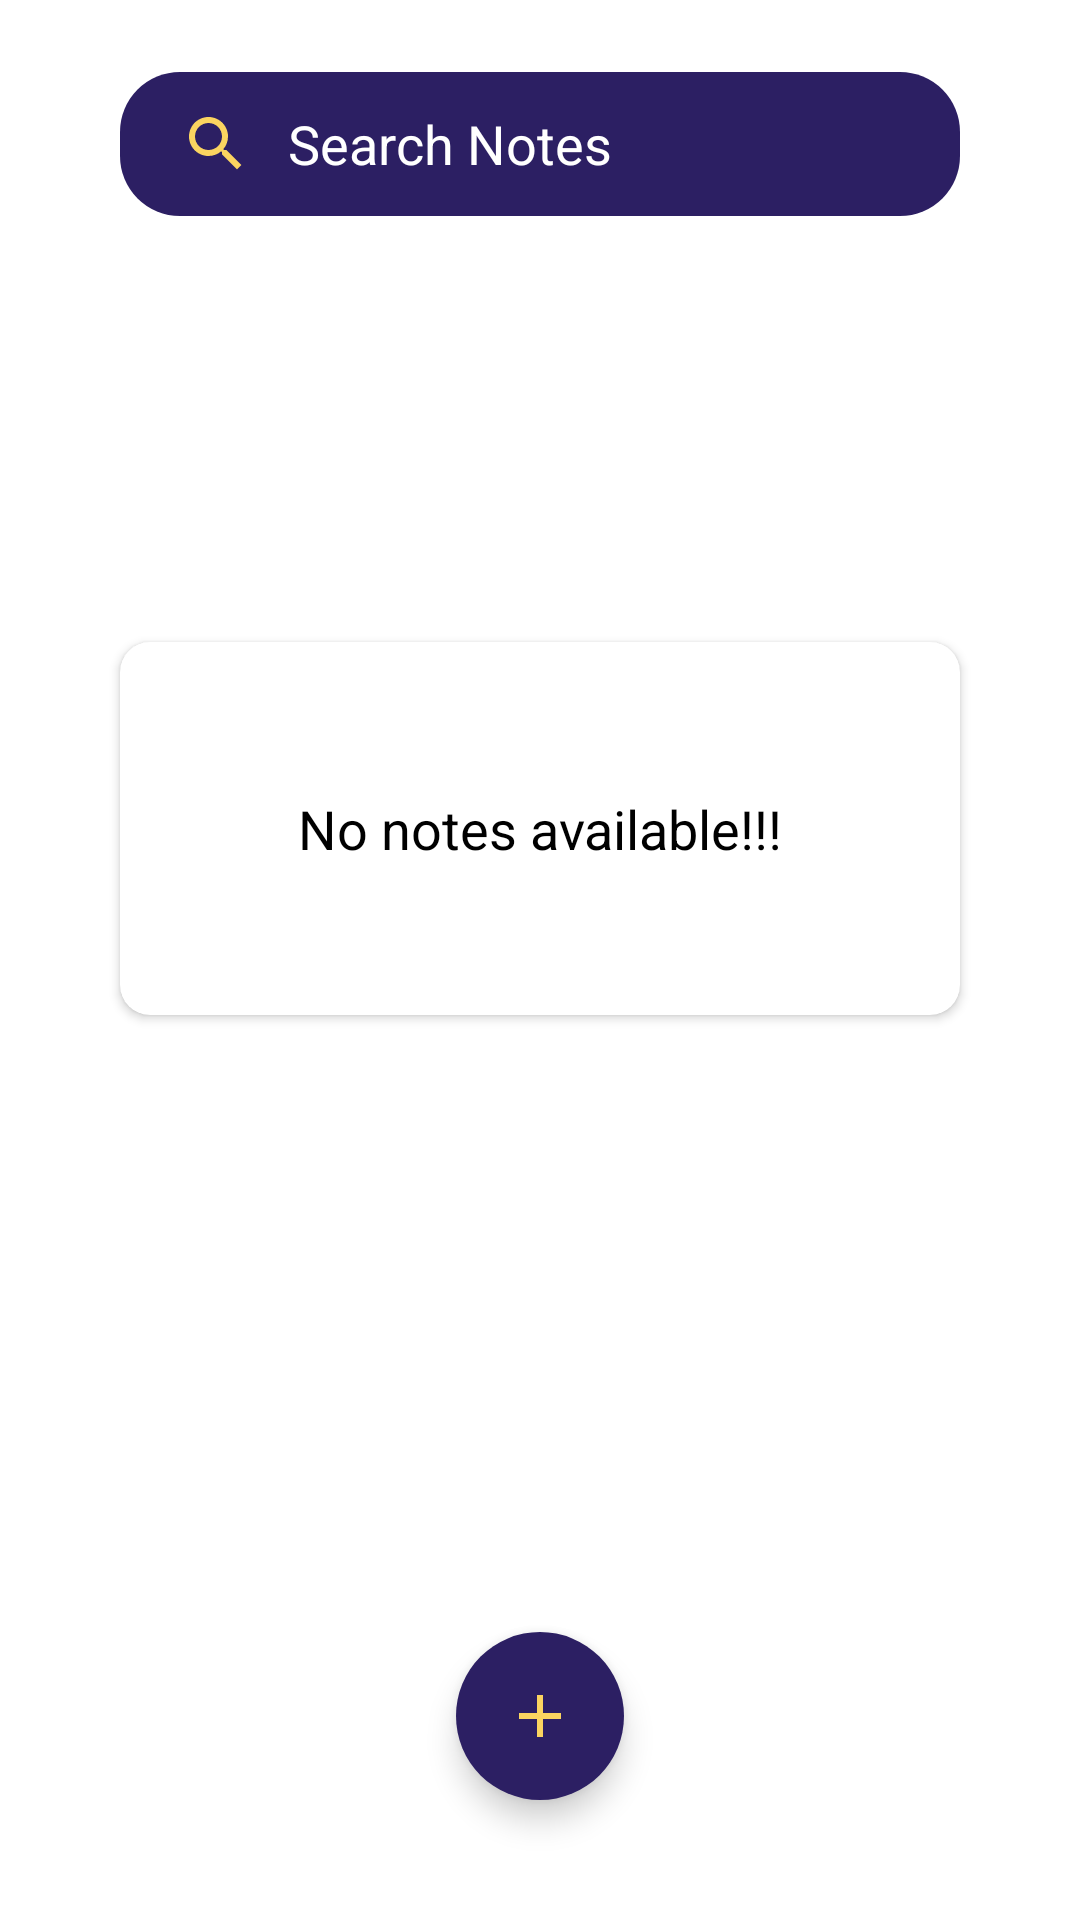

Named icons in this screenshot (1080px×1920px) and their centers, [x,y]:
add: [540,1716]
